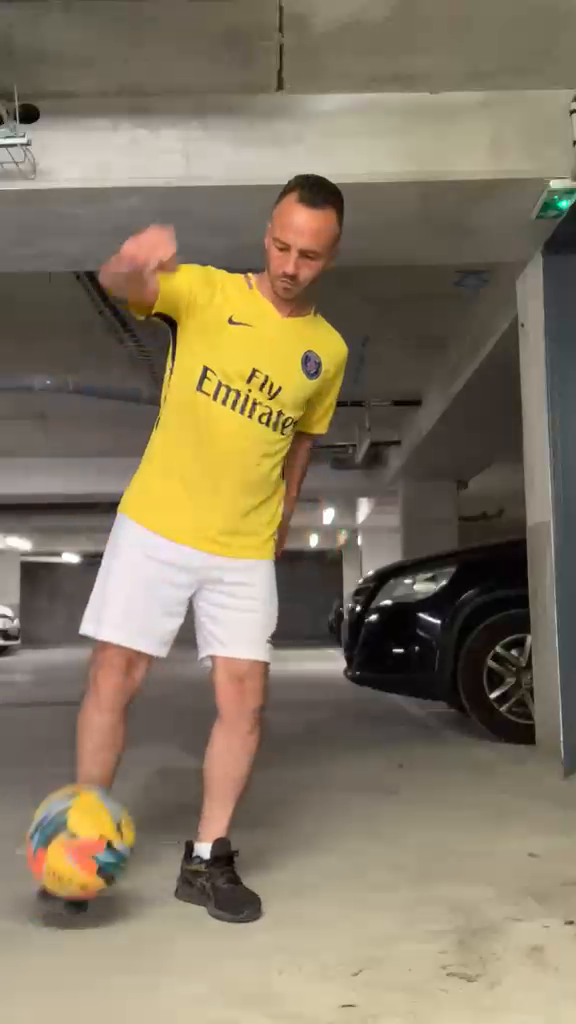ball: (20, 783, 140, 903)
